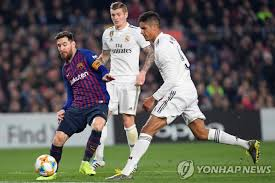barcelona: (33, 30, 115, 181)
realmadrid: (119, 16, 260, 177), (79, 4, 150, 180)
